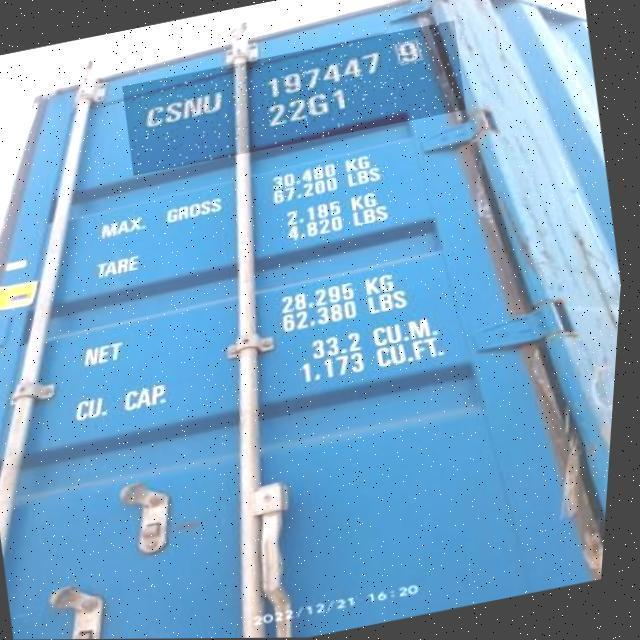container_number_h: (119, 21, 472, 176)
